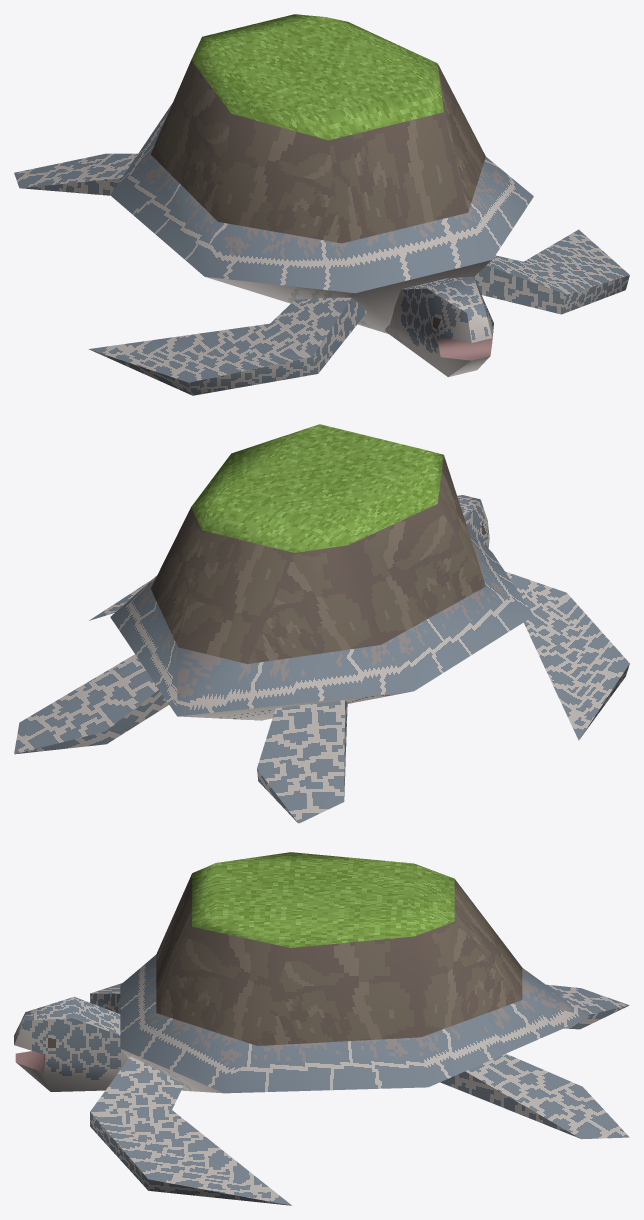
File: 02e4_Giant_Sea_Turtle.glb
3 renders of one model, top to bottom at view 1: azimuth 30°, elevation 25°; view 2: azimuth 150°, elevation 25°; view 3: azimuth 270°, elevation 25°, orthographic. The views are drawn at different scales.
Visible parts, largest first — view 1: part_0; view 2: part_0; view 3: part_0.
Part boxes in pixels (x1,y1,x2,y2): part_0: (14,14,629,395); part_0: (14,424,629,823); part_0: (14,852,629,1205).
Size of the model in its own units: 105 by 43.99 by 120.
Materials: 1 (1 with a texture image).
